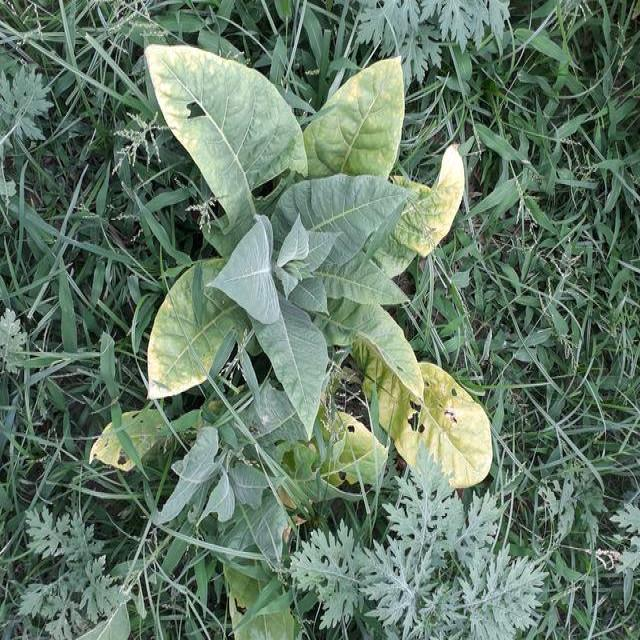crop: (140, 35, 498, 487)
